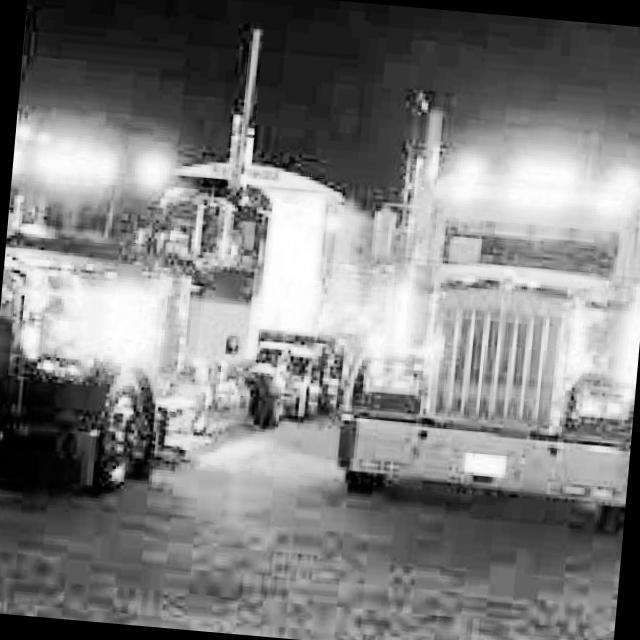Truck: (324, 72, 640, 531)
